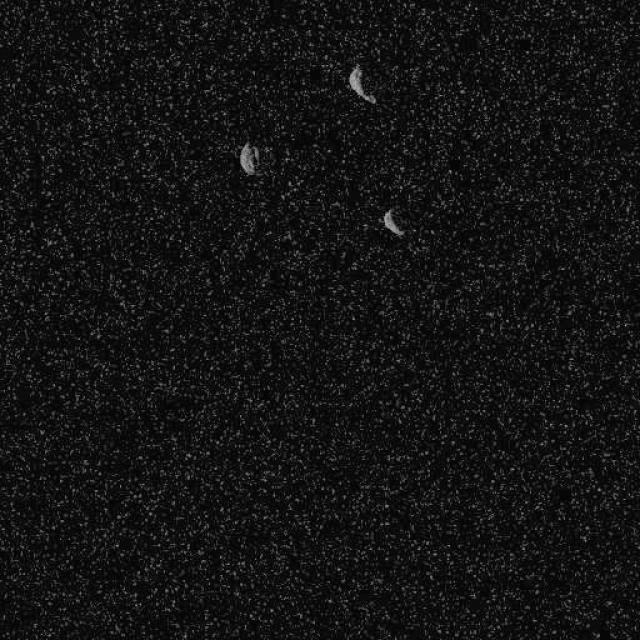D2: (346, 63, 376, 105), (238, 140, 260, 175), (381, 208, 405, 238)
